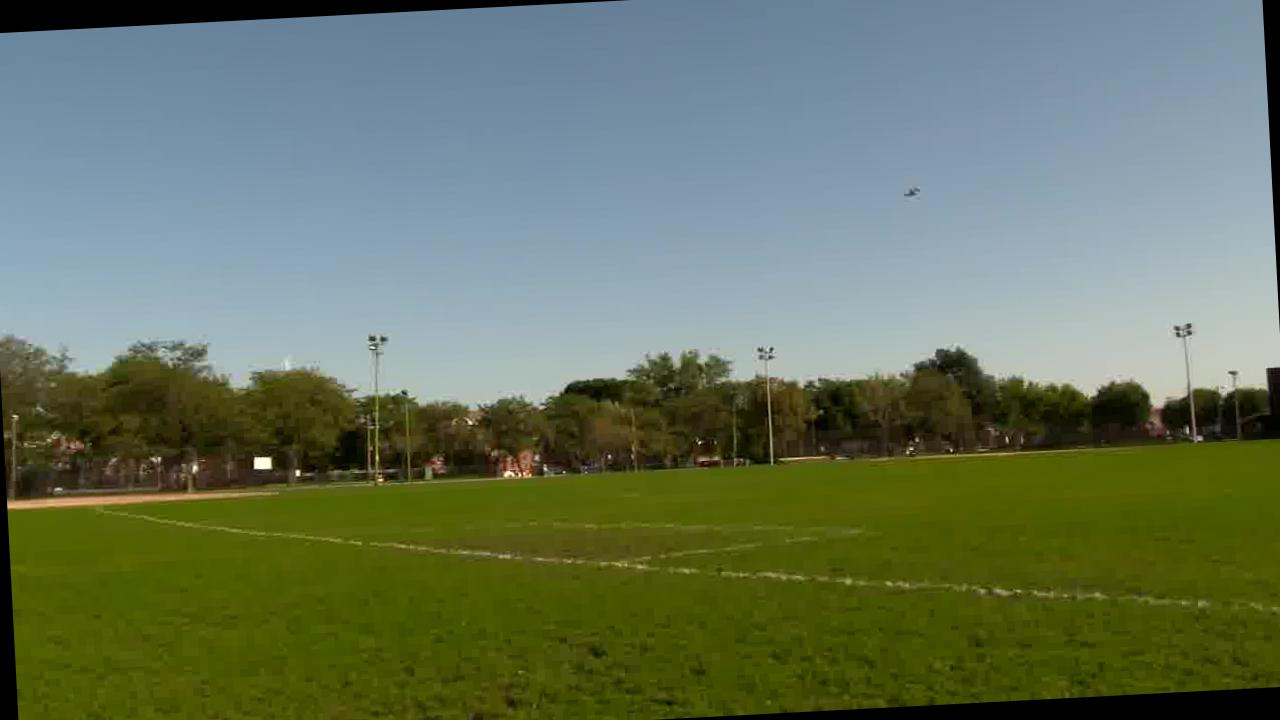drone: (878, 176, 928, 206)
